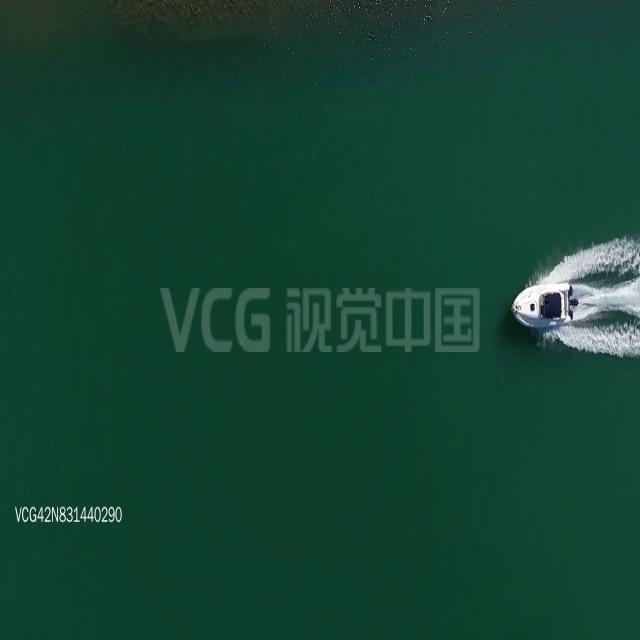houseboat: (512, 279, 574, 328)
